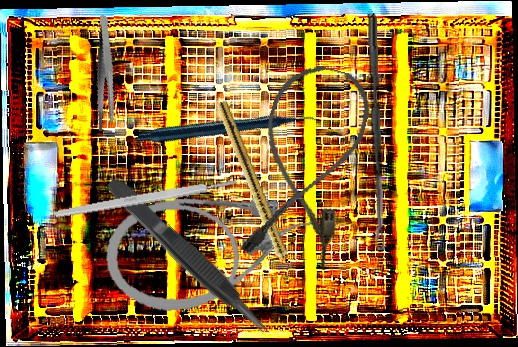Cannula: (234, 56, 378, 273), (99, 185, 322, 317)
Dressing Forceps: (73, 14, 138, 134)
Handpiece: (136, 46, 320, 216), (211, 99, 299, 283)
Scalpel Handle: (54, 177, 238, 220)
Surgical Spoon: (366, 13, 385, 251)
Tissue Forceps: (103, 170, 275, 342)
